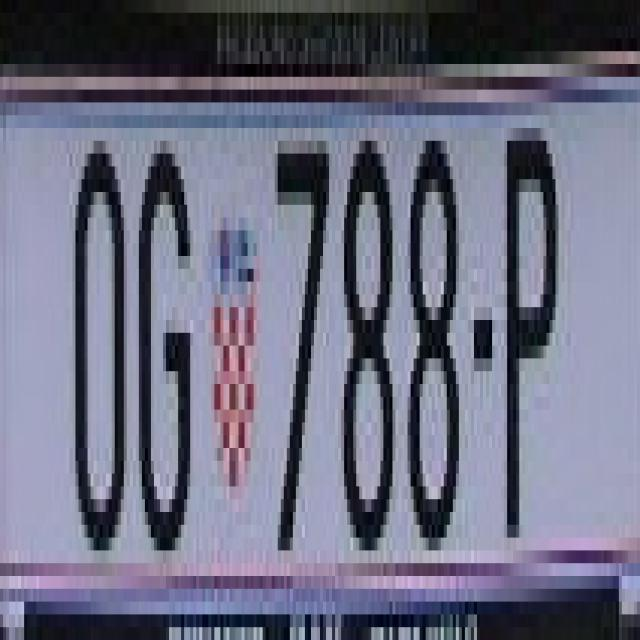0: (69, 128, 130, 576)
7: (266, 128, 329, 576)
8: (401, 115, 456, 563), (335, 128, 393, 550)
G: (133, 128, 190, 576)
P: (498, 102, 565, 550)
